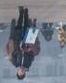person: (12, 5, 35, 80), (6, 18, 17, 62), (28, 18, 41, 55), (41, 23, 56, 42), (57, 22, 66, 48)
